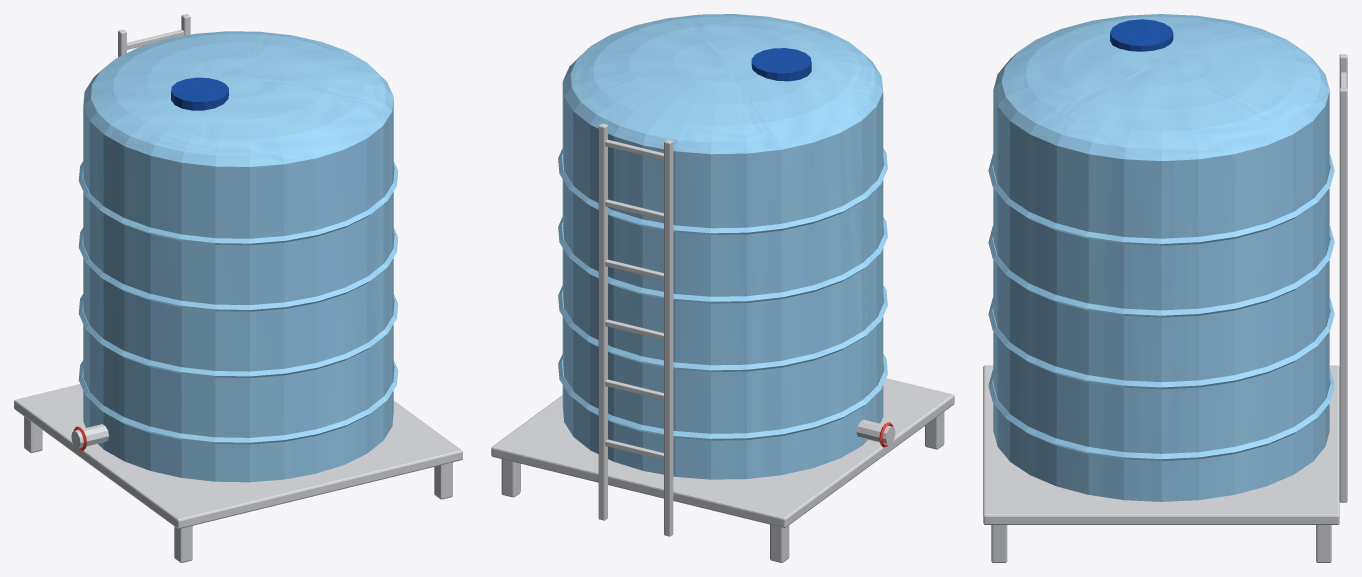
Rendered from SW_WaterTank.glb.
3 renders of one model, left to right at view 1: azimuth 30°, elevation 25°; view 2: azimuth 150°, elevation 25°; view 3: azimuth 270°, elevation 25°, orthographic. The views are drawn at different scales.
Visible parts, largest first — view 1: Tank, Stand, Ladder; view 2: Tank, Stand, Ladder; view 3: Tank, Stand, Ladder.
Boxes of the visible parts, <box> form: Tank: <box>71,31,398,482</box>; Stand: <box>14,384,462,562</box>; Ladder: <box>118,14,190,57</box>; Tank: <box>558,14,895,479</box>; Stand: <box>491,378,954,562</box>; Ladder: <box>598,123,673,536</box>; Tank: <box>988,14,1334,501</box>; Stand: <box>983,365,1339,562</box>; Ladder: <box>1339,54,1347,502</box>.
Bounding box in the file's own units: 1.92 × 2.42 × 1.84.
2 materials, 1 textured.
